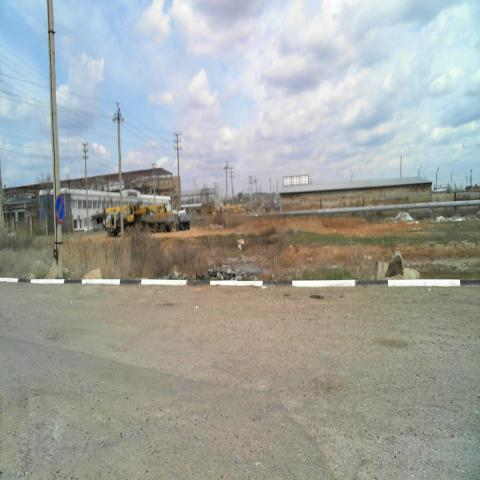3_28: (54, 195, 66, 224)
